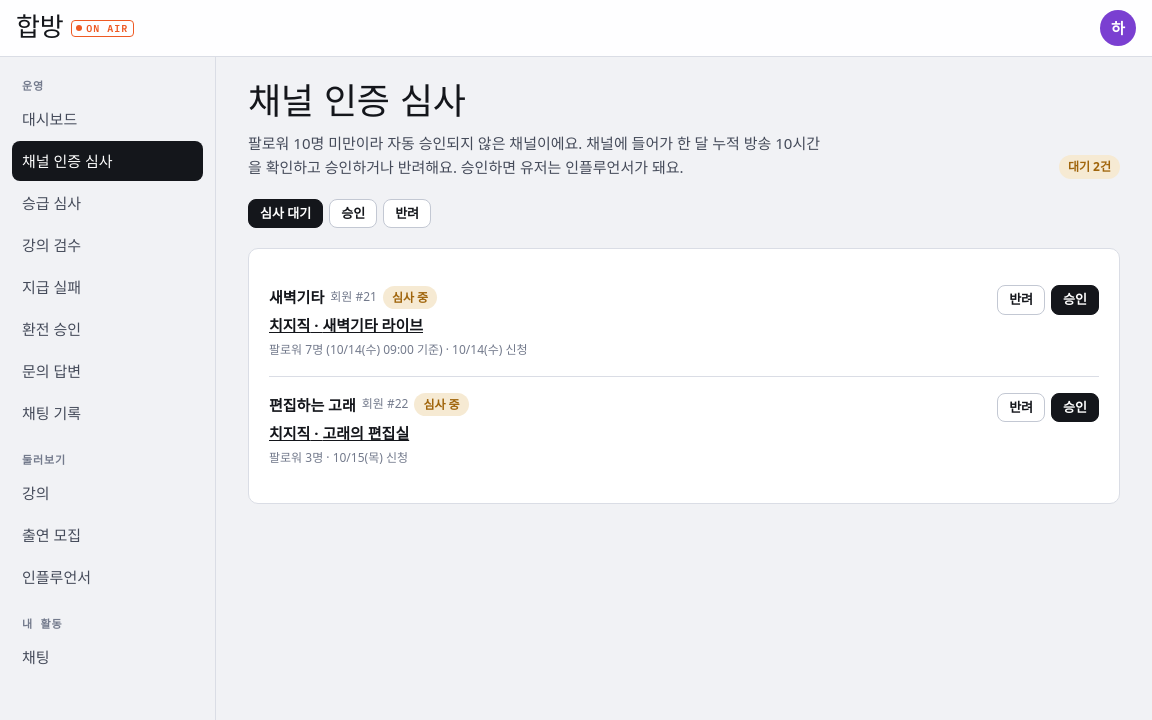
it: 관리자 채널 인증 심사 › 승인은 확인창을 거쳐 처리하고 목록을 다시 불러온다
The width and height of the screenshot is (1152, 720).
Click the button "승인" in the row of "21": (1075, 300) [1051,285,1099,315]
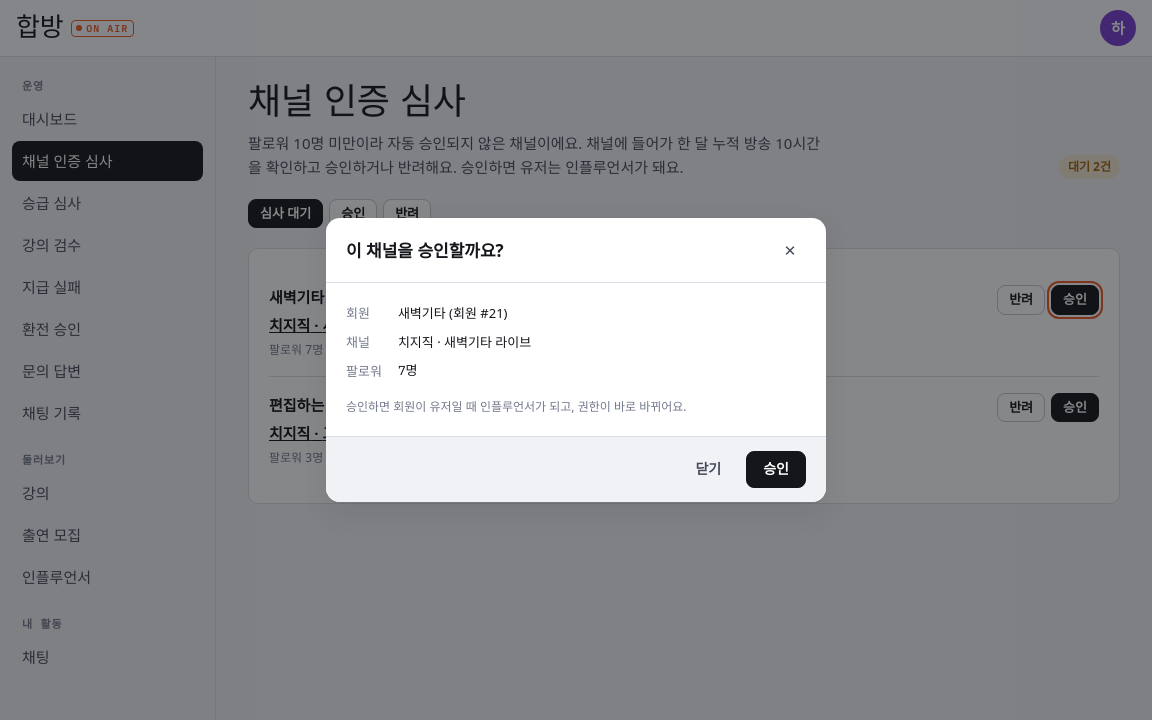
Check: the text "새벽기타 (회원 #21)" is shown, box [398,304,508,322]
Click the button "승인": (776, 470) [746,451,806,488]
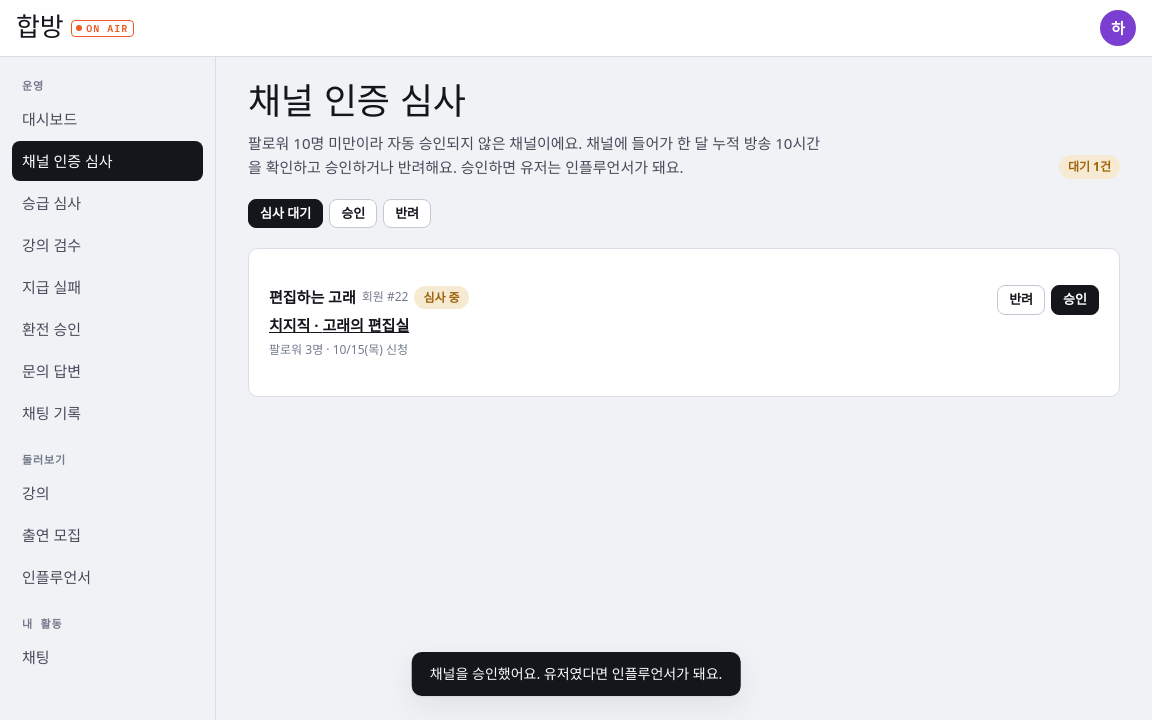
Check: the text "채널을 승인했어요. 유저였다면 인플루언서가 돼요." is shown, box [412,652,740,696]
Check: the text "대기 1건" is shown, box [1059,155,1120,179]
